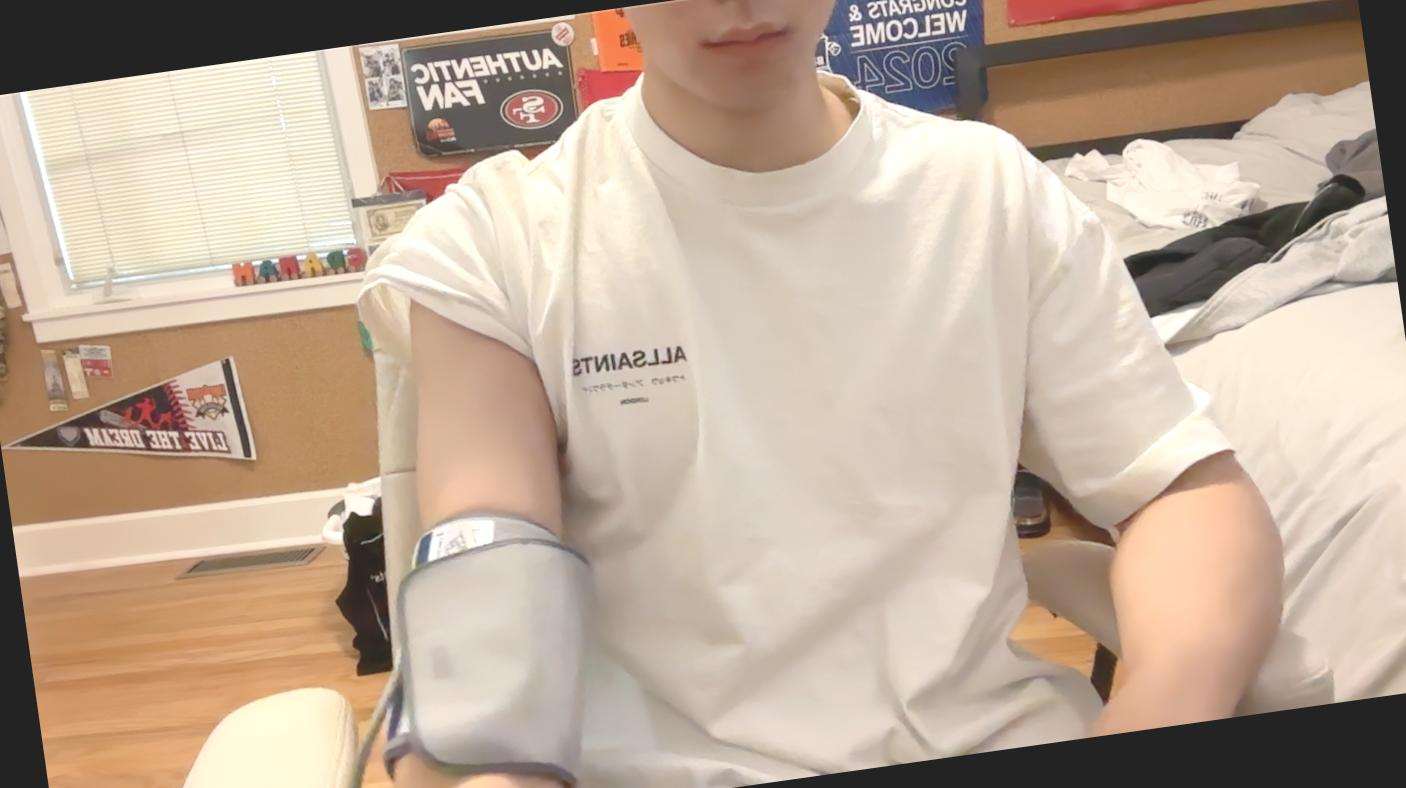cuff: (360, 498, 622, 788)
